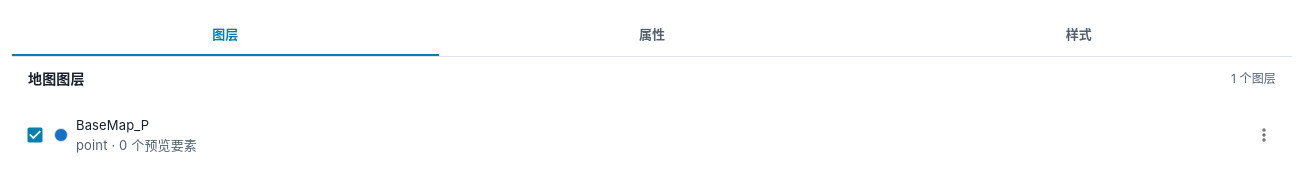
InspectorPanel › 可以切换到样式 tab 并显示首阶段空状态
This screenshot has width=1304, height=172.
Click the tab "样式" at (1079, 34), box [865,12,1292,56]
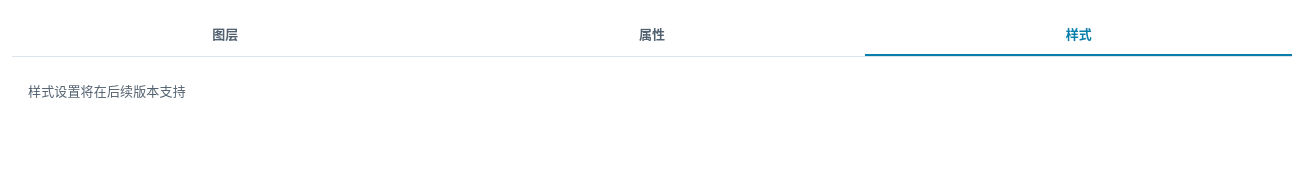
Check: the text "样式设置将在后续版本支持" is shown, box [28,83,186,99]
